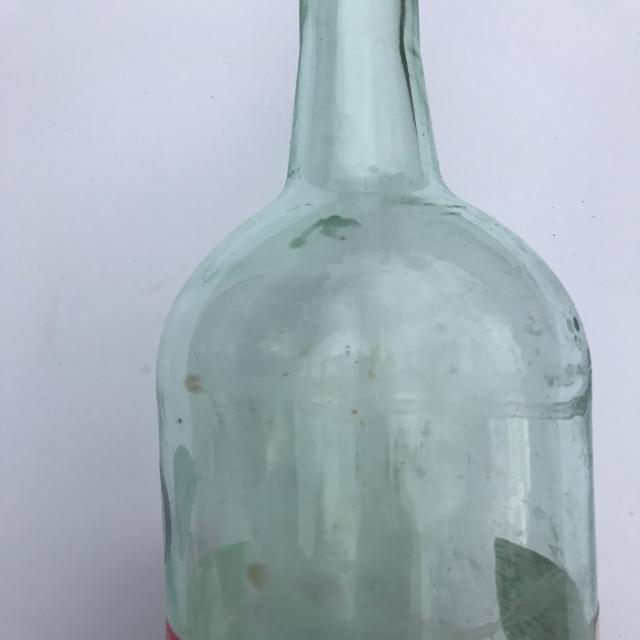glass: (155, 1, 599, 640)
